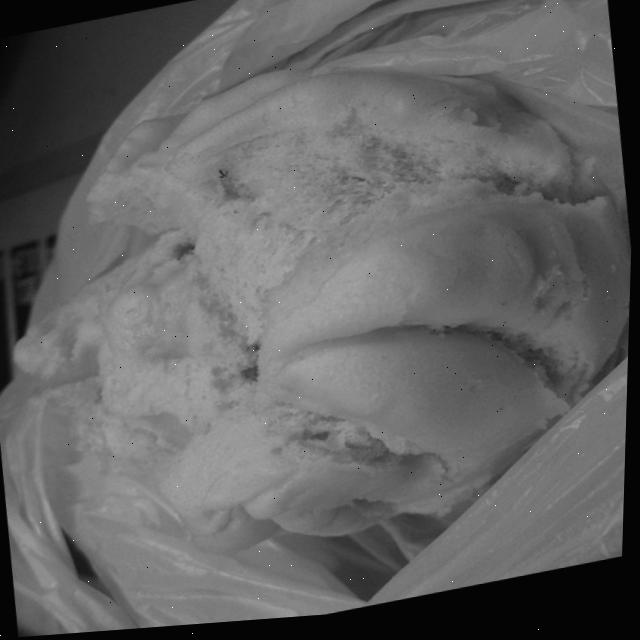带馅早点: (0, 0, 639, 628)
